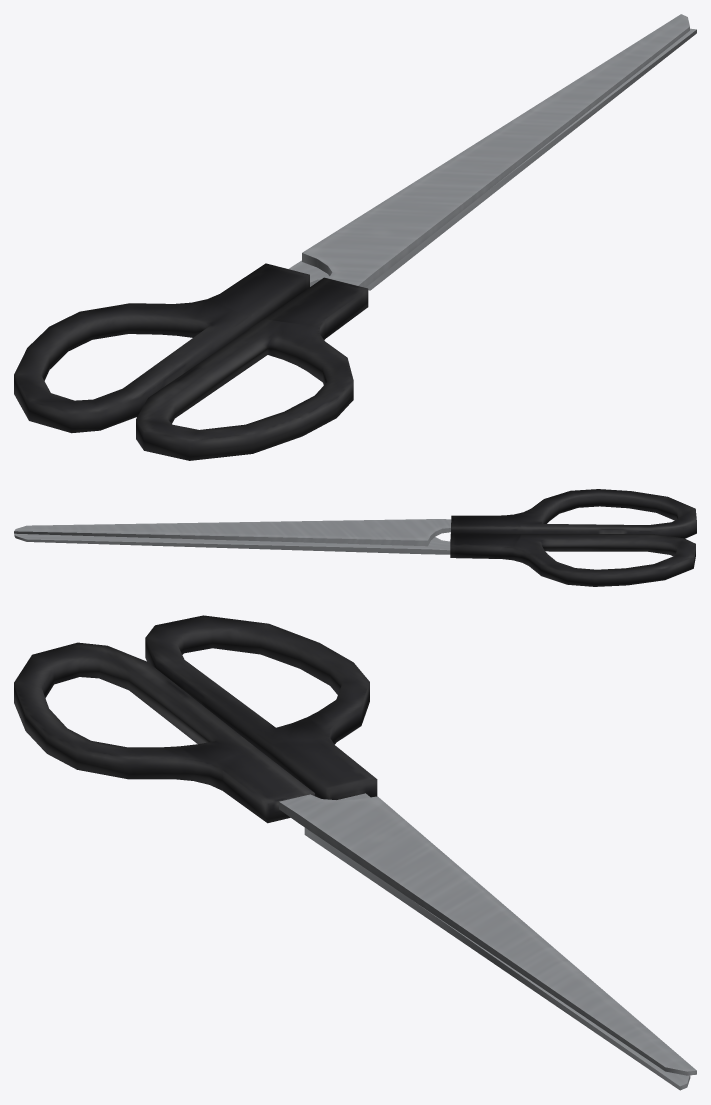
The model's file is Tijeras.glb.
The picture shows the model from 3 angles, top to bottom: view 1: azimuth 30°, elevation 25°; view 2: azimuth 150°, elevation 25°; view 3: azimuth 270°, elevation 25°; orthographic projection. The views are drawn at different scales.
Parts seen in each view (by area): view 1: Repisa_Tijeras; view 2: Repisa_Tijeras; view 3: Repisa_Tijeras.
Boxes of the visible parts, left/top/right/bottom form: Repisa_Tijeras: left=14, top=14, right=696, bottom=460; Repisa_Tijeras: left=14, top=489, right=696, bottom=586; Repisa_Tijeras: left=14, top=615, right=696, bottom=1090.
Size of the model in its own units: 0.1894 by 0.00467 by 0.1196.
Materials: 1 (1 with a texture image).
